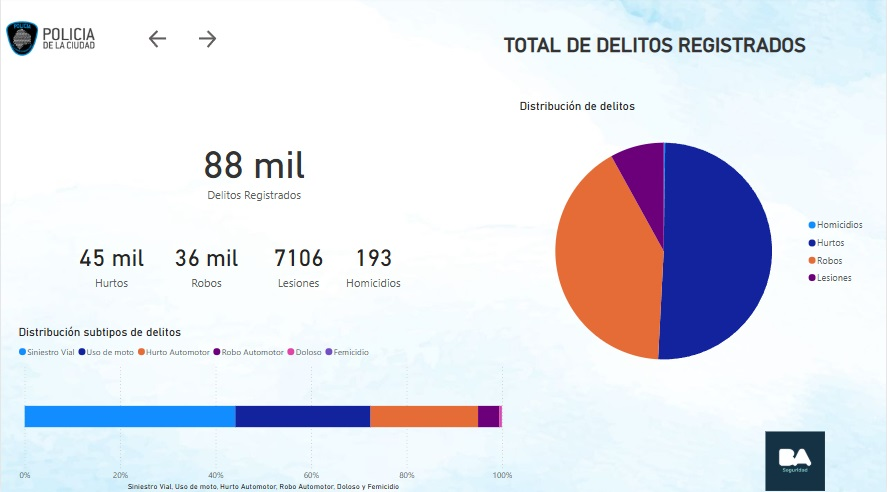

This screenshot's page, from the dashboard's own definition file:
{"tool":"powerbi","page":{"name":"Página 1","canvas":[1280,720],"ordinal":2},"visuals":[{"type":"image","box":[1100,624.3,95.7,95.7],"z":0},{"type":"image","box":[0,0,142.9,122.9],"z":1000},{"type":"textbox","box":[674.3,48.6,542.9,58.6],"z":2000},{"type":"card","fields":{"Values":["TablaMedidas.Cantidad_Delitos"]},"box":[256.8,158.7,217.1,178.6],"z":3000},{"type":"pieChart","title":"Distribución de delitos","fields":{"Y":["TablaMedidas.Cantidad_Homicidios","TablaMedidas.Cantidad_Hurtos","TablaMedidas.Cantidad_Robos","TablaMedidas.Cantidad_Lesiones"]},"box":[744.6,148.9,516.1,420.7],"z":4000},{"type":"card","fields":{"Values":["TablaMedidas.Cantidad_Homicidios"]},"box":[469.7,337.3,137.1,100],"z":5000},{"type":"card","fields":{"Values":["TablaMedidas.Cantidad_Hurtos"]},"box":[91.1,337.3,137.1,100],"z":6000},{"type":"card","fields":{"Values":["TablaMedidas.Cantidad_Robos"]},"box":[228.2,337.3,137.1,100],"z":7000},{"type":"card","fields":{"Values":["TablaMedidas.Cantidad_Lesiones"]},"box":[361.1,337.3,137.1,100],"z":8000},{"type":"hundredPercentStackedBarChart","title":"Distribución subtipos de delitos","fields":{"Y":["TablaMedidas.Cantidad_siniestro_vial","TablaMedidas.Cantidad_uso_de_moto","TablaMedidas.Cantidad_hurto_automotor","TablaMedidas.Cantidad_robo_automotor","TablaMedidas.Cantidad_doloso","TablaMedidas.Cantidad_femicidios"]},"box":[20.2,475.7,724.3,244.3],"z":9000},{"type":"actionButton","box":[206.7,41.9,70.8,40.5],"z":10000},{"type":"actionButton","box":[277.6,41.9,66.5,40.5],"z":11000}]}

Visuals, with their boxes in screenshot pixels (x1, y1, x2, y2), scaled from the page's 1280x720 canvas onto the 887x492 screenshot:
image: 762 427 829 491
image: 0 0 99 84
textbox: 467 33 843 73
card - TablaMedidas.Cantidad_Delitos: 178 108 328 230
"Distribución de delitos" pieChart: 516 102 874 389
card - TablaMedidas.Cantidad_Homicidios: 325 230 420 299
card - TablaMedidas.Cantidad_Hurtos: 63 230 158 299
card - TablaMedidas.Cantidad_Robos: 158 230 253 299
card - TablaMedidas.Cantidad_Lesiones: 250 230 345 299
"Distribución subtipos de delitos" hundredPercentStackedBarChart: 14 325 516 491
actionButton: 143 29 192 56
actionButton: 192 29 238 56
